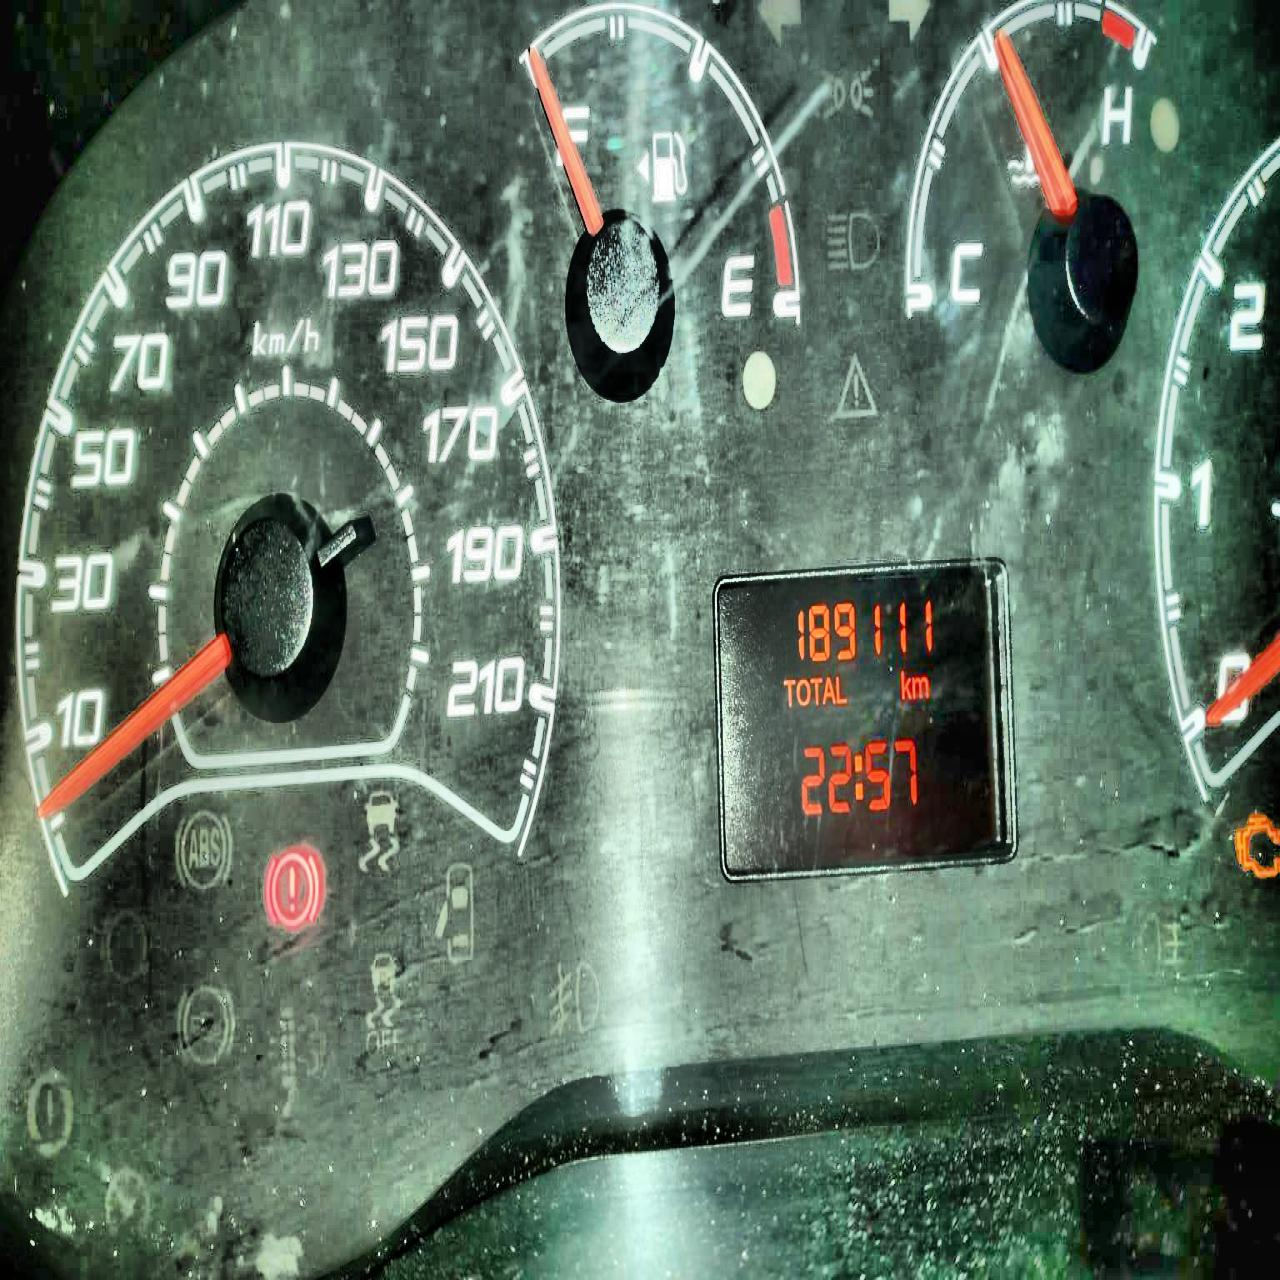1: (872, 601, 880, 655), (898, 600, 906, 653), (925, 598, 932, 652), (797, 607, 804, 660)
2: (799, 745, 825, 815), (828, 742, 851, 812)
5: (864, 741, 890, 809)
7: (893, 737, 917, 804)
8: (808, 602, 829, 661)
9: (833, 601, 855, 660)
X: (821, 674, 836, 704), (795, 678, 811, 704), (853, 753, 863, 798), (912, 675, 928, 700), (809, 678, 823, 704), (899, 668, 911, 699), (783, 679, 795, 707), (836, 674, 846, 704)
odometer: (710, 553, 1017, 886)
